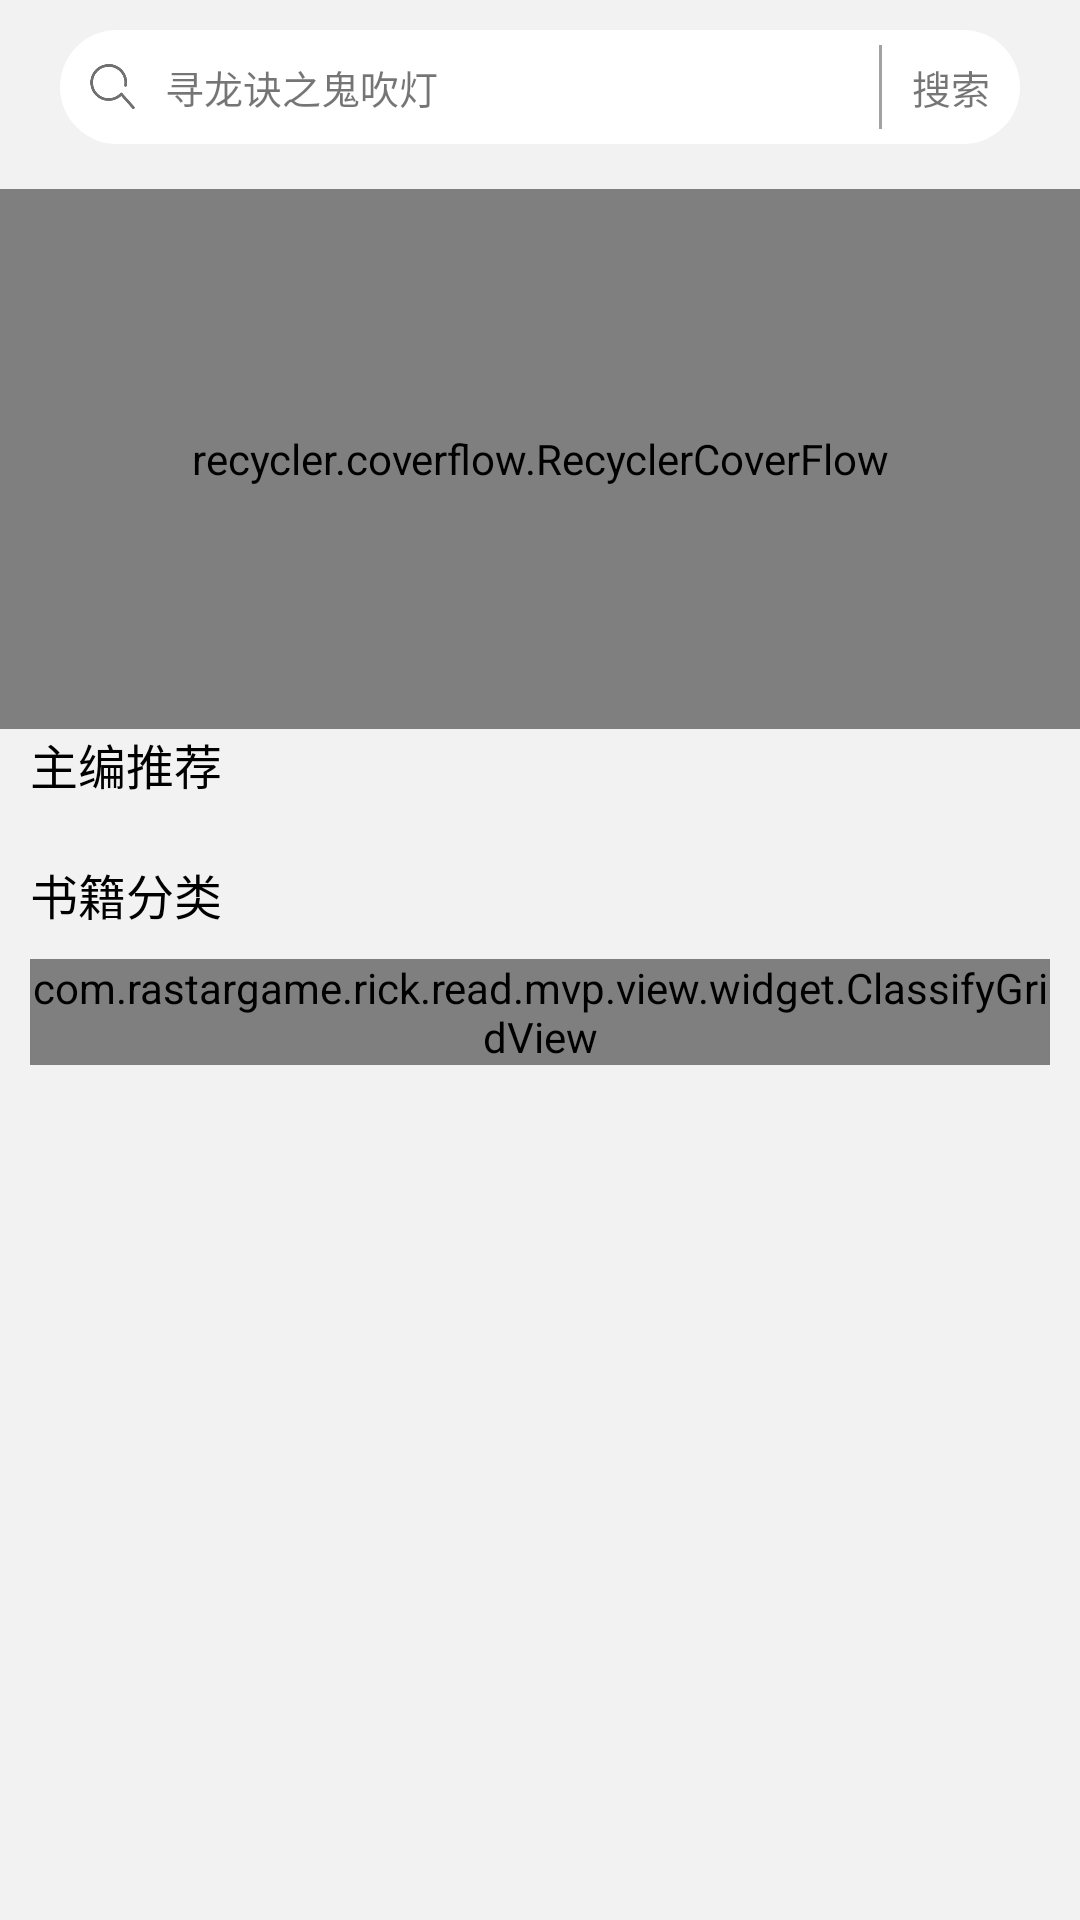

Named icons in this screenshot (1080px x 1920px) and their centers, (x,y):
search: (112,86)
